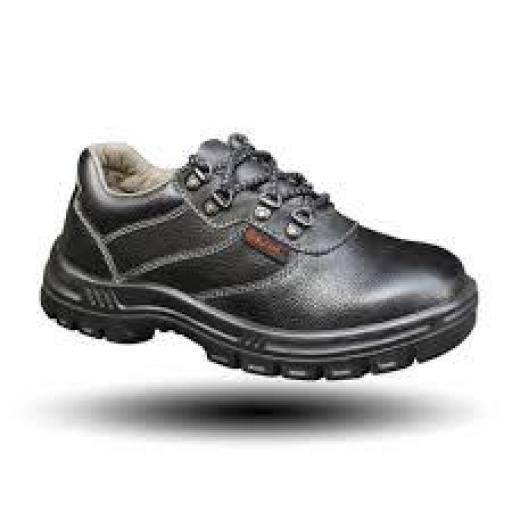safety_boots: (40, 105, 512, 434)
